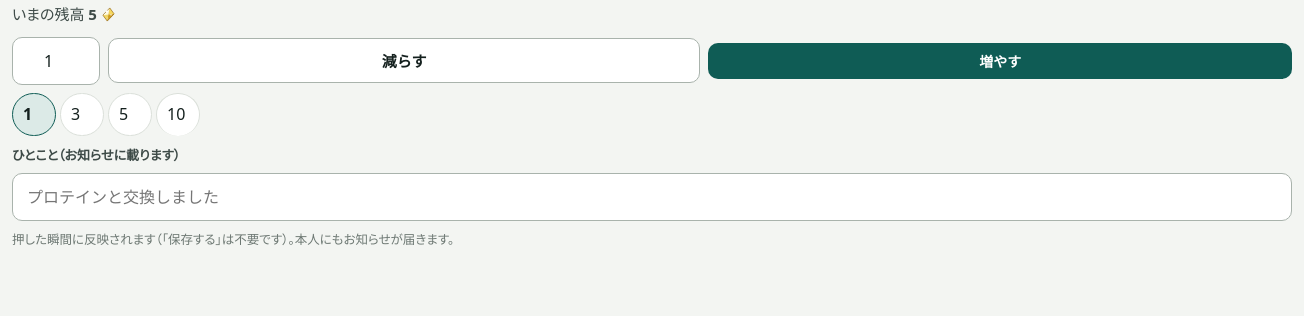
Test case: ★ その場で動かす › 反映した数と、残りが出る
Click the button "減らす". click: {"x": 404, "y": 61}
box: [108,38,700,83]
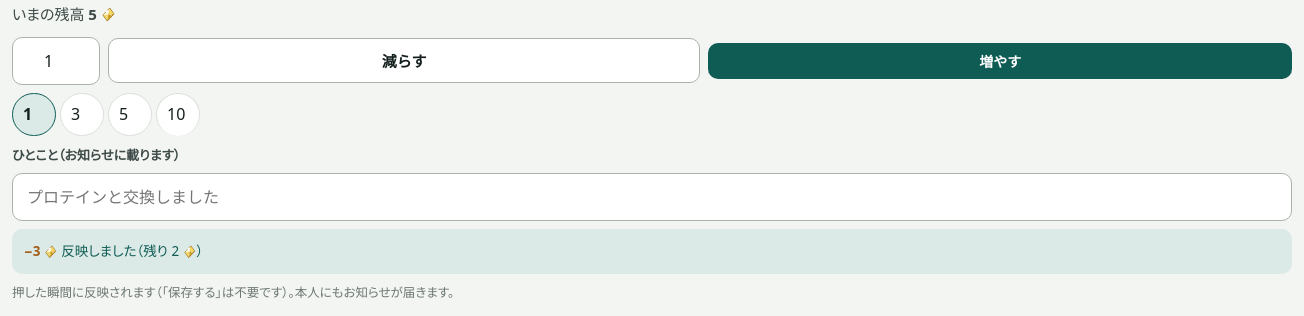
Expected: the message shows "−3", [12,230,1292,274]
Expected: the message shows "残り 2", [12,230,1292,274]
